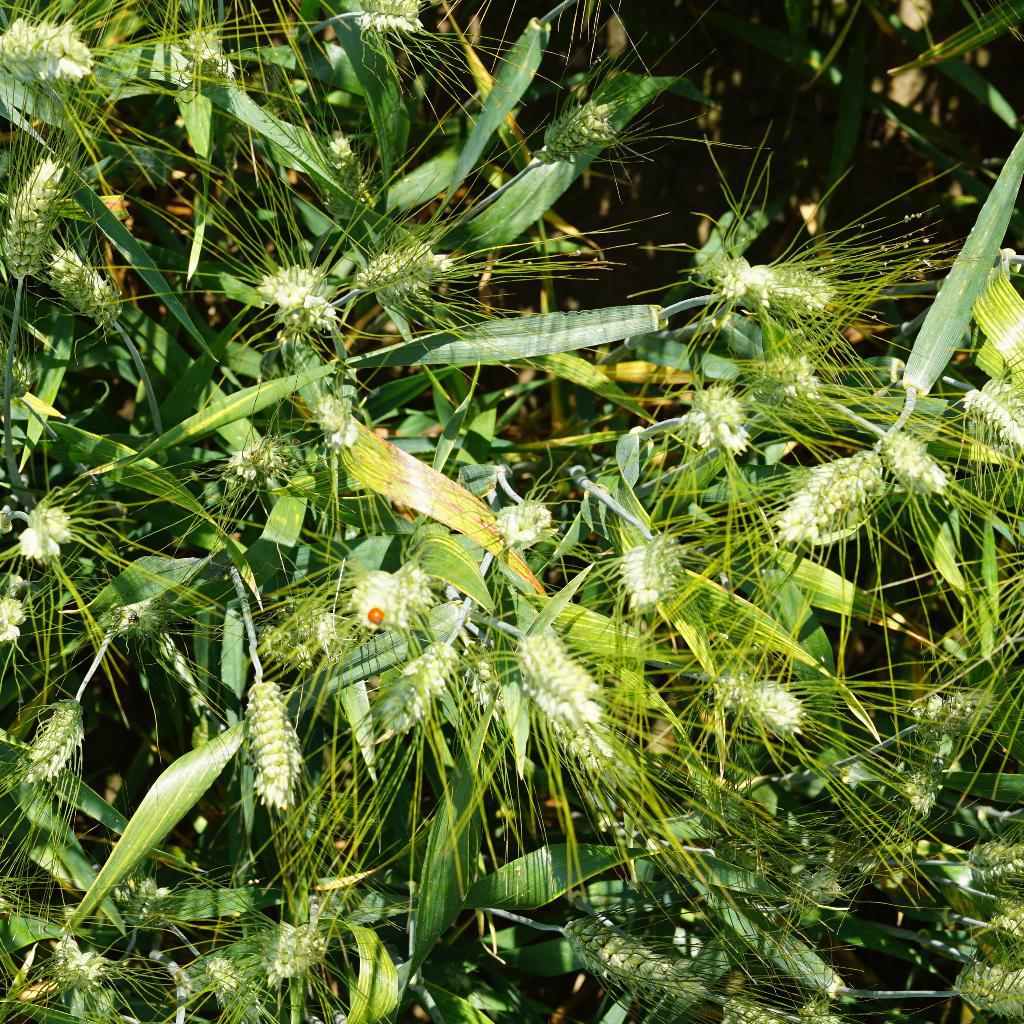0-0: (770, 417, 904, 557), (555, 899, 705, 1008), (362, 619, 474, 742), (501, 624, 619, 727), (231, 672, 314, 810), (716, 250, 856, 331), (0, 145, 68, 298), (727, 653, 825, 750), (542, 699, 651, 785), (249, 586, 350, 670), (17, 675, 94, 785), (0, 22, 111, 94), (48, 247, 148, 326), (750, 341, 832, 426), (911, 677, 1011, 746), (619, 522, 697, 609), (877, 421, 955, 508), (352, 238, 455, 299), (537, 93, 628, 160), (343, 555, 419, 631), (49, 919, 112, 1009), (956, 369, 1024, 452), (10, 494, 78, 571), (265, 915, 335, 989), (687, 384, 758, 453), (950, 830, 1024, 894), (303, 384, 368, 456), (257, 262, 329, 326), (488, 492, 556, 552), (781, 861, 851, 919), (112, 590, 176, 653), (948, 960, 1024, 1012), (183, 27, 243, 92), (351, 0, 438, 43), (107, 867, 168, 927), (198, 952, 258, 1012), (234, 430, 292, 488), (0, 322, 43, 400), (886, 758, 948, 807), (324, 122, 370, 185), (971, 903, 1024, 955), (0, 869, 17, 927)
